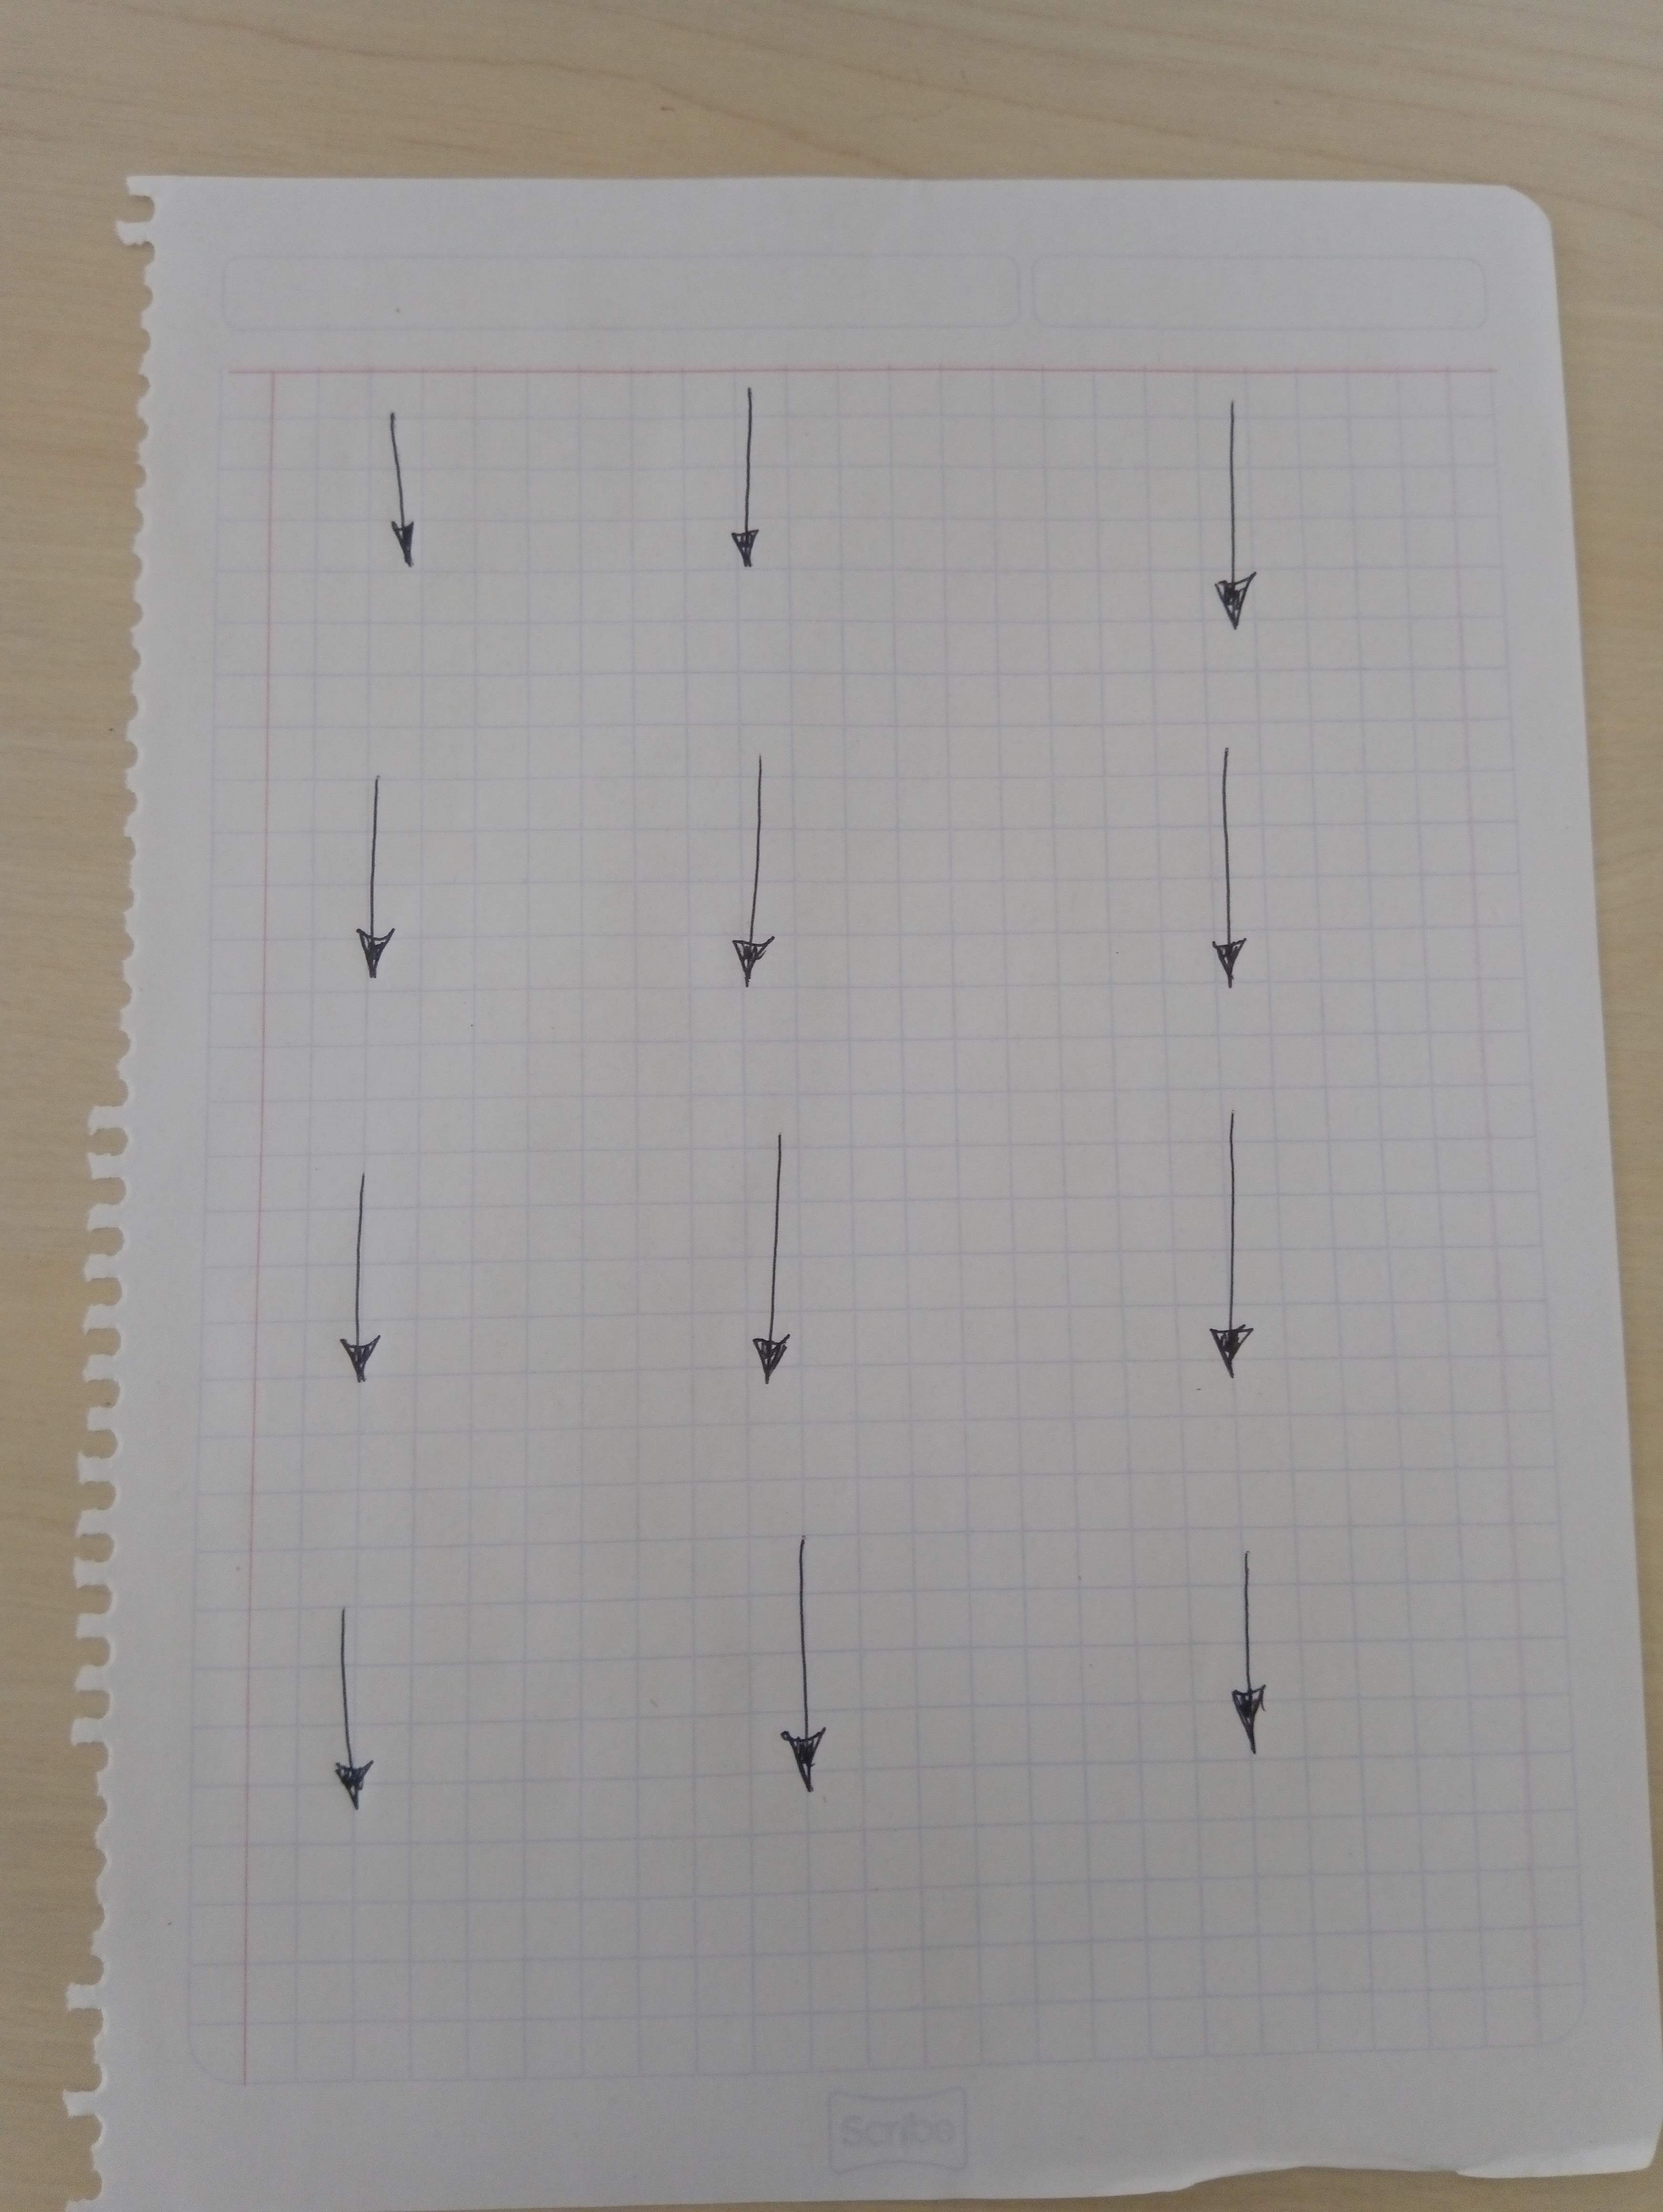arrow_line_down: (1170, 1109, 1280, 1376), (314, 759, 433, 985), (714, 1131, 818, 1388), (1188, 756, 1287, 988), (1195, 1528, 1293, 1763), (702, 763, 802, 985), (325, 1175, 412, 1398), (1202, 396, 1268, 642), (776, 1526, 835, 1798), (314, 1596, 384, 1812), (714, 381, 779, 578), (372, 419, 445, 573)
